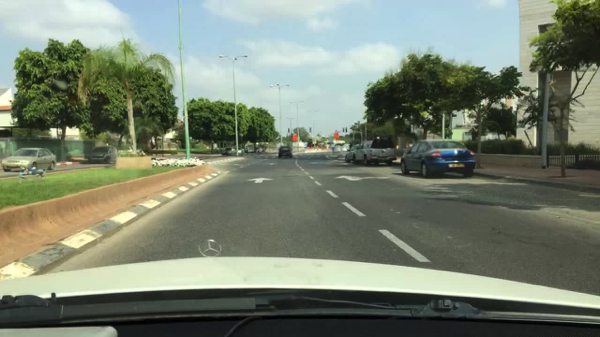car: (400, 137, 477, 176), (2, 147, 56, 174), (356, 135, 397, 165), (87, 145, 117, 163), (278, 145, 294, 158), (345, 146, 356, 163), (223, 147, 236, 156), (247, 145, 254, 152), (237, 148, 244, 154)
traffic sign: (334, 132, 339, 141), (292, 134, 297, 142)
